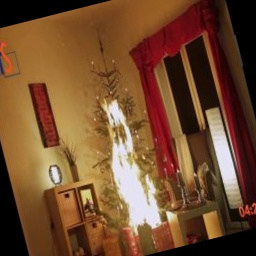fire: (81, 84, 178, 239)
